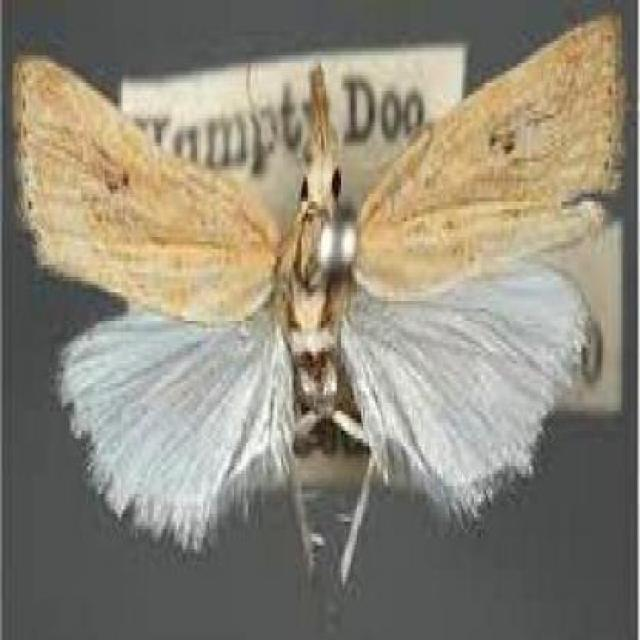stem-borer: (11, 10, 629, 597)
